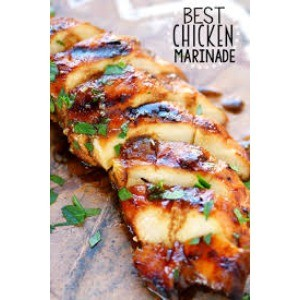chicken breast_brain food: (137, 137, 234, 287)
